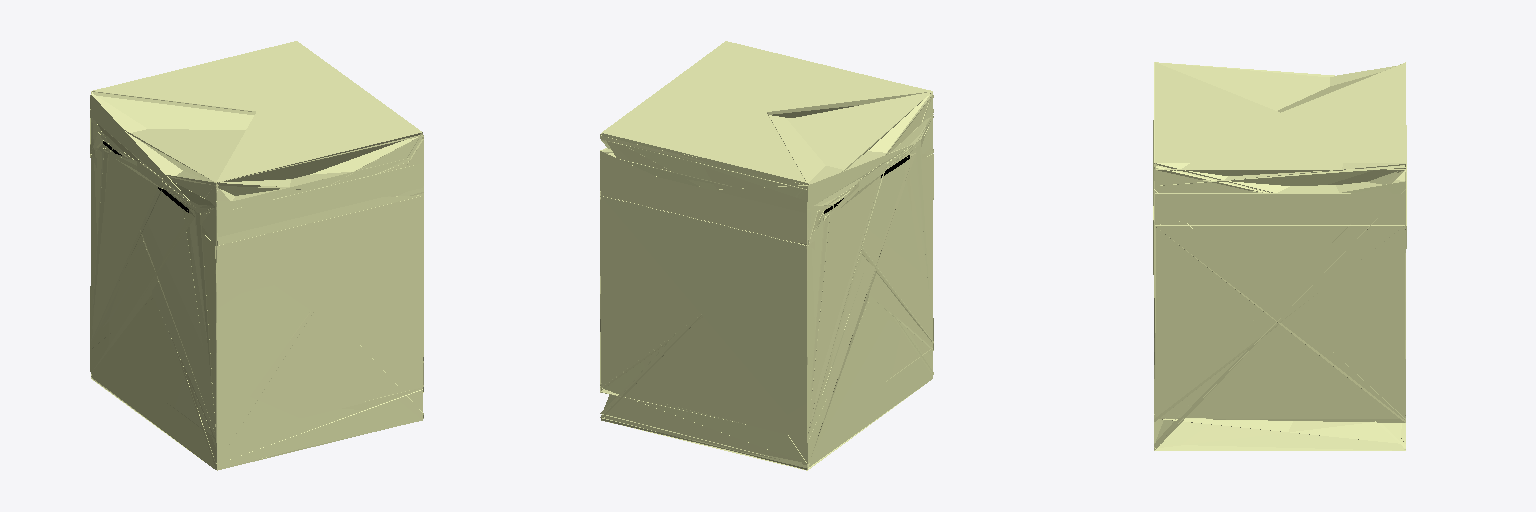
Rendered from Dishwasher 1.obj.
3 views of the same model, side by side, from view 1: azimuth 30°, elevation 25°; view 2: azimuth 150°, elevation 25°; view 3: azimuth 270°, elevation 25° (orthographic).
Visible parts, largest first — view 1: Box20205; view 2: Box20205; view 3: Box20205.
Part boxes in pixels (bbox=[...]): Box20205: bbox=[90, 41, 423, 470]; Box20205: bbox=[600, 41, 933, 470]; Box20205: bbox=[1153, 62, 1406, 450].
Bounding box in the file's own units: 732 × 956 × 763.